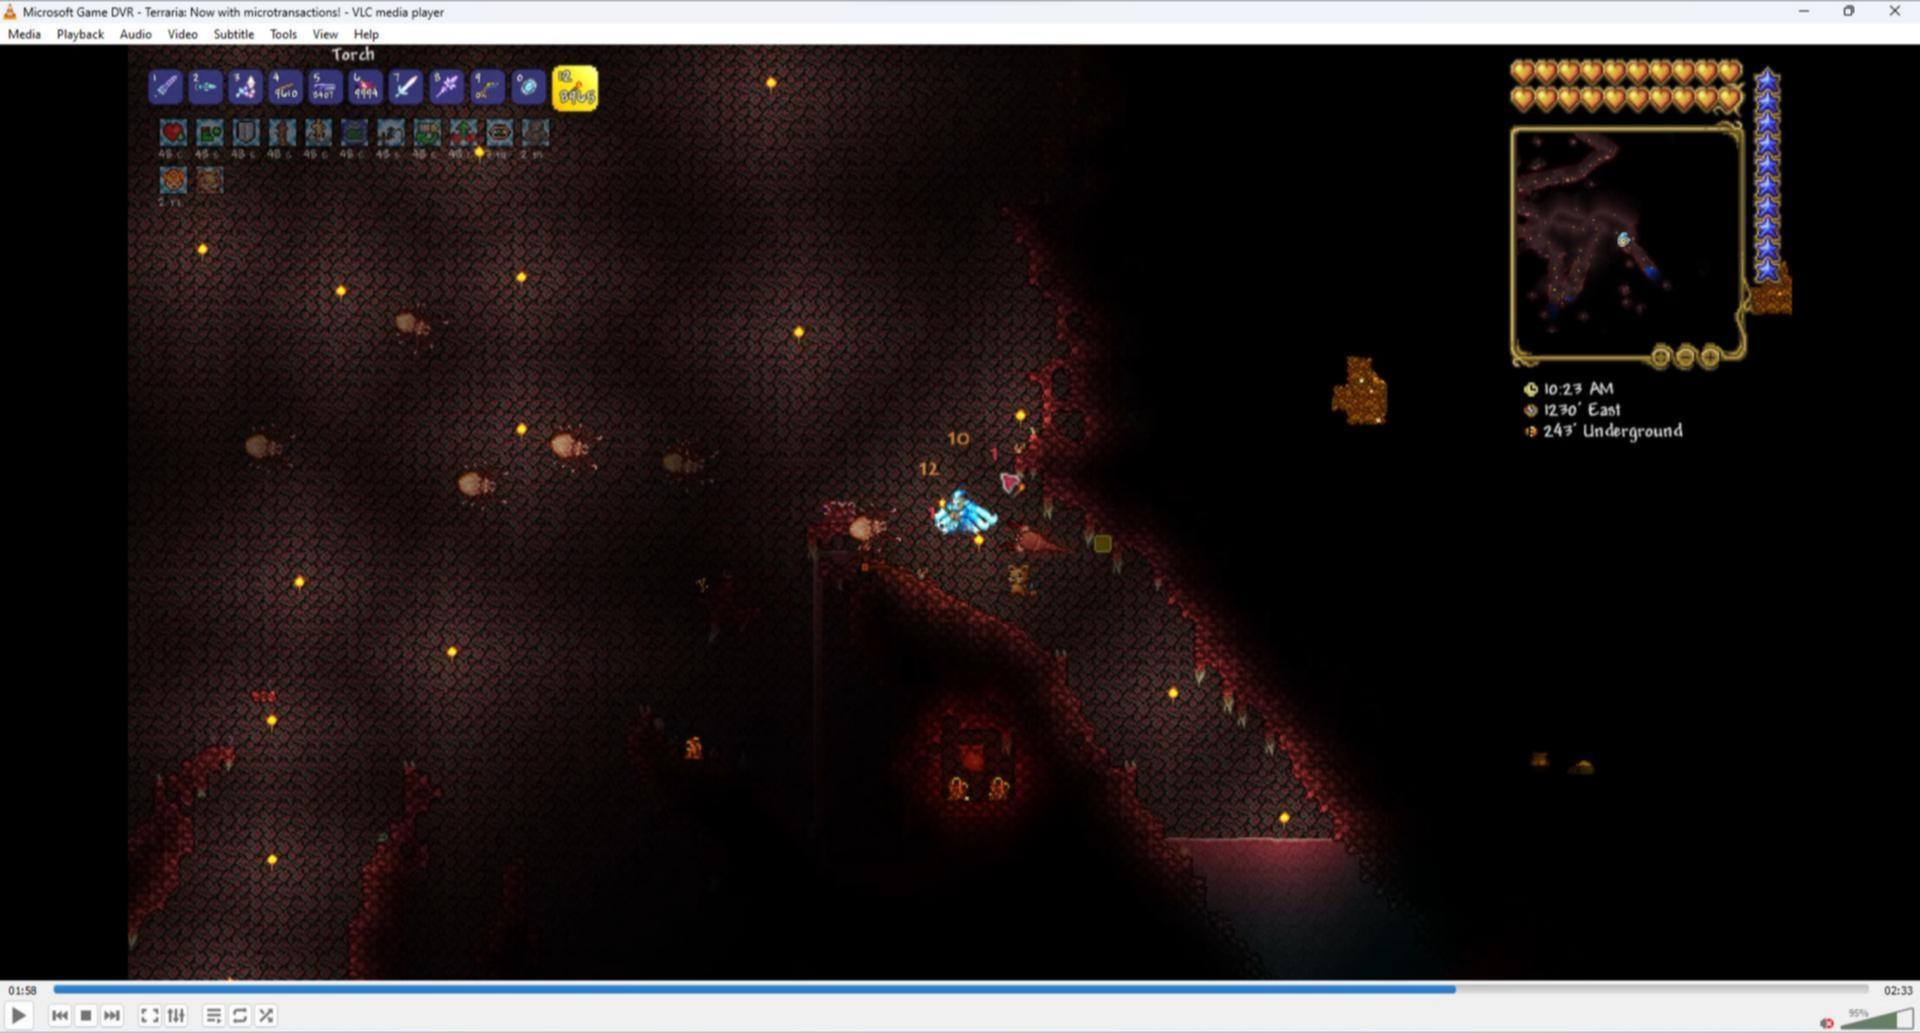crimera: (1010, 519, 1074, 564)
spider: (660, 430, 729, 500), (450, 453, 516, 515), (234, 415, 298, 473), (392, 290, 446, 357), (554, 420, 605, 483), (848, 509, 905, 553)
